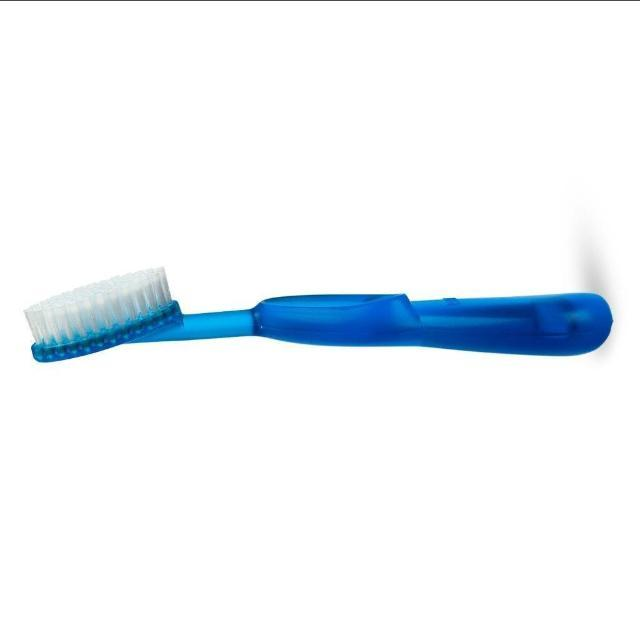toothbrush: (18, 252, 638, 408)
